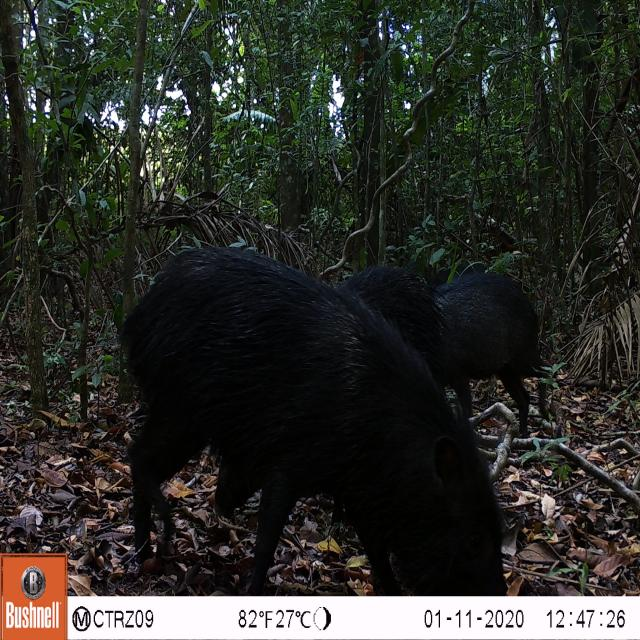White-lipped Peccary: (118, 238, 509, 595), (351, 254, 577, 440)
